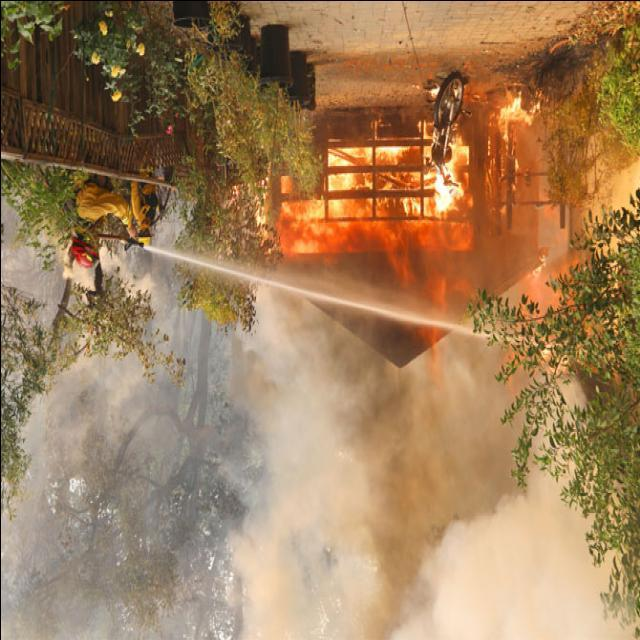Fire: (251, 117, 469, 351)
